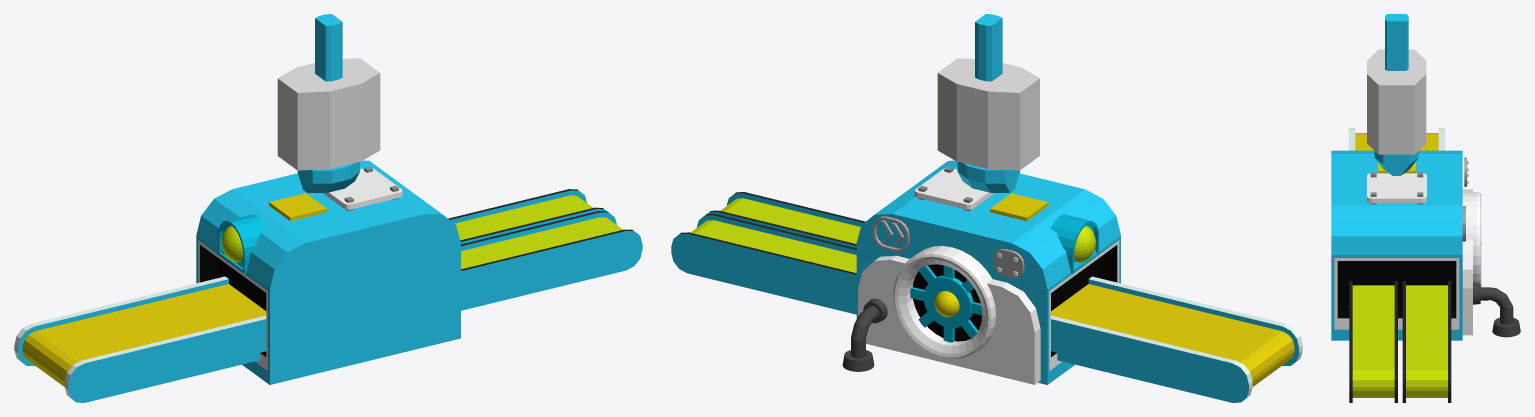
The model's file is BodyMachineLevel1.fbx.
The picture shows the model from 3 angles, left to right: view 1: azimuth 30°, elevation 25°; view 2: azimuth 150°, elevation 25°; view 3: azimuth 270°, elevation 25°; orthographic projection. The views are drawn at different scales.
Visible parts, largest first — view 1: HeadMachine, Level1Body, HeadMachineOutorIn, line, HeadMachineOutorIn.001, line.001, line.002, HeadMachineOutorIn.002, BigLight; view 2: HeadMachine, Level1Body, HeadMachineOutorIn, line, HeadMachineOutorIn.002, line.002, HeadMachineWheel, line.001, HeadMachineOutorIn.001, BigLight; view 3: HeadMachine, Level1Body, line.001, line.002, HeadMachineOutorIn.001, HeadMachineOutorIn.002, line, HeadMachineOutorIn.
Boxes of the visible parts, bbox=[...] form: HeadMachine: bbox=[196, 160, 460, 384]; Level1Body: bbox=[277, 14, 380, 192]; HeadMachineOutorIn: bbox=[14, 276, 266, 402]; line: bbox=[22, 284, 266, 386]; HeadMachineOutorIn.001: bbox=[461, 211, 642, 310]; line.001: bbox=[461, 217, 622, 269]; line.002: bbox=[454, 195, 592, 240]; HeadMachineOutorIn.002: bbox=[448, 189, 606, 244]; BigLight: bbox=[221, 226, 243, 262]; HeadMachine: bbox=[842, 160, 1120, 384]; Level1Body: bbox=[937, 14, 1039, 192]; HeadMachineOutorIn: bbox=[1051, 276, 1302, 402]; line: bbox=[1051, 284, 1294, 386]; HeadMachineOutorIn.002: bbox=[671, 214, 856, 314]; line.002: bbox=[691, 220, 856, 272]; HeadMachineWheel: bbox=[910, 265, 982, 342]; line.001: bbox=[720, 198, 860, 243]; HeadMachineOutorIn.001: bbox=[707, 192, 865, 248]; BigLight: bbox=[1074, 226, 1095, 262]; HeadMachine: bbox=[1331, 150, 1520, 340]; Level1Body: bbox=[1367, 14, 1426, 175]; line.001: bbox=[1352, 285, 1394, 397]; line.002: bbox=[1406, 285, 1447, 397]; HeadMachineOutorIn.001: bbox=[1349, 281, 1397, 402]; HeadMachineOutorIn.002: bbox=[1402, 281, 1451, 402]; line: bbox=[1355, 133, 1438, 150]; HeadMachineOutorIn: bbox=[1348, 128, 1445, 150].
Bounding box in the file's own units: 902 × 288 × 476.
